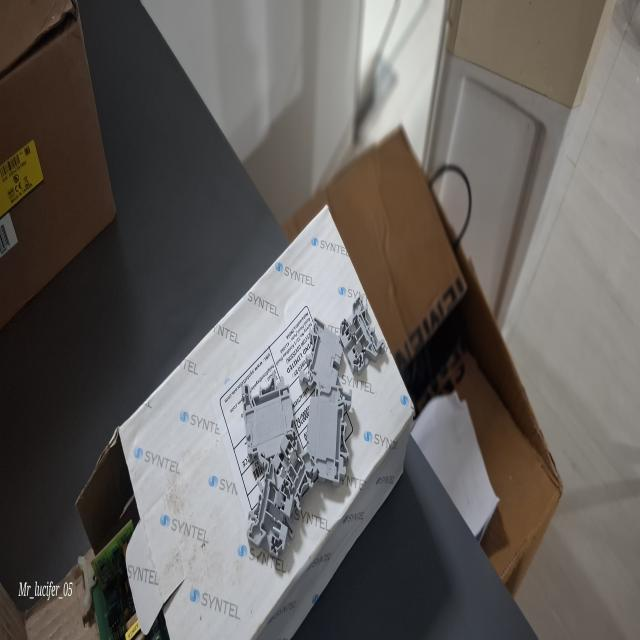Inverted: (297, 314, 343, 394)
Pass: (338, 298, 389, 378)
Reject: (245, 445, 294, 568)
